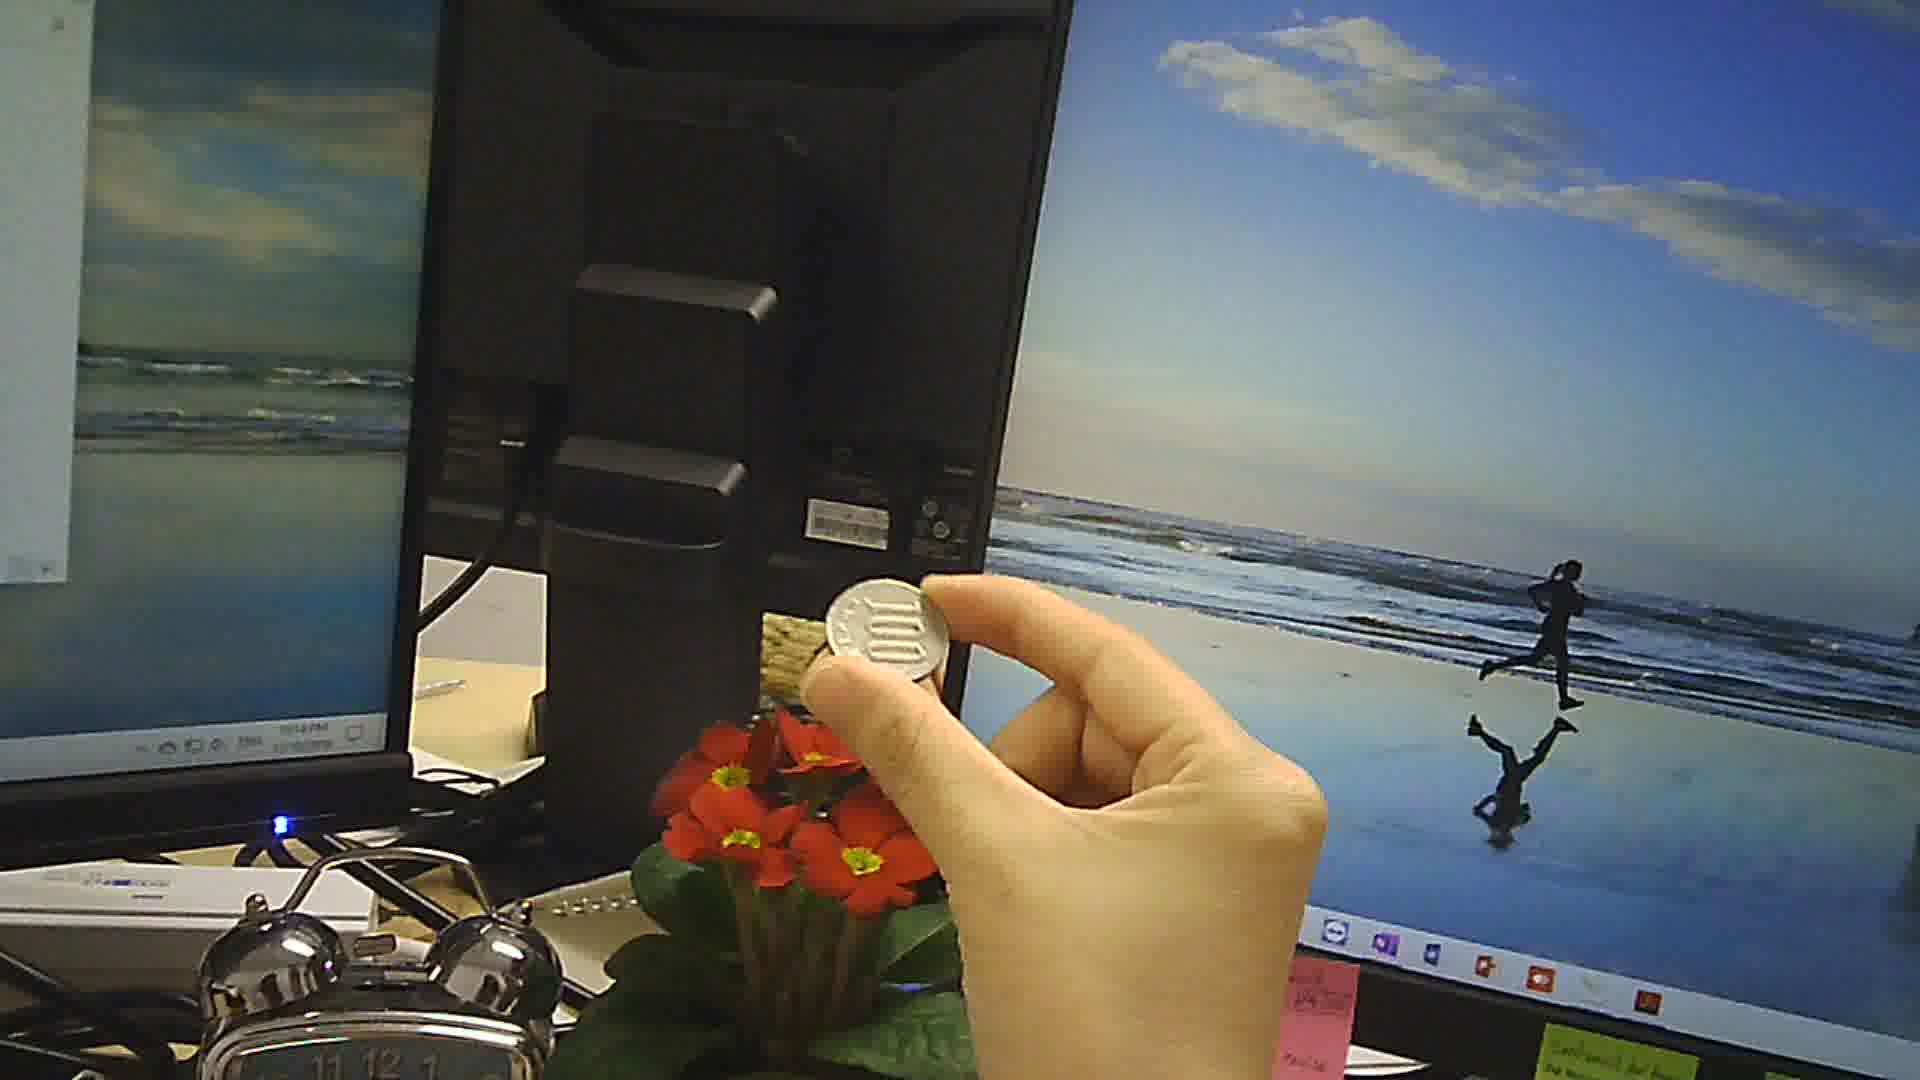100 Yen: (823, 571, 953, 694)
